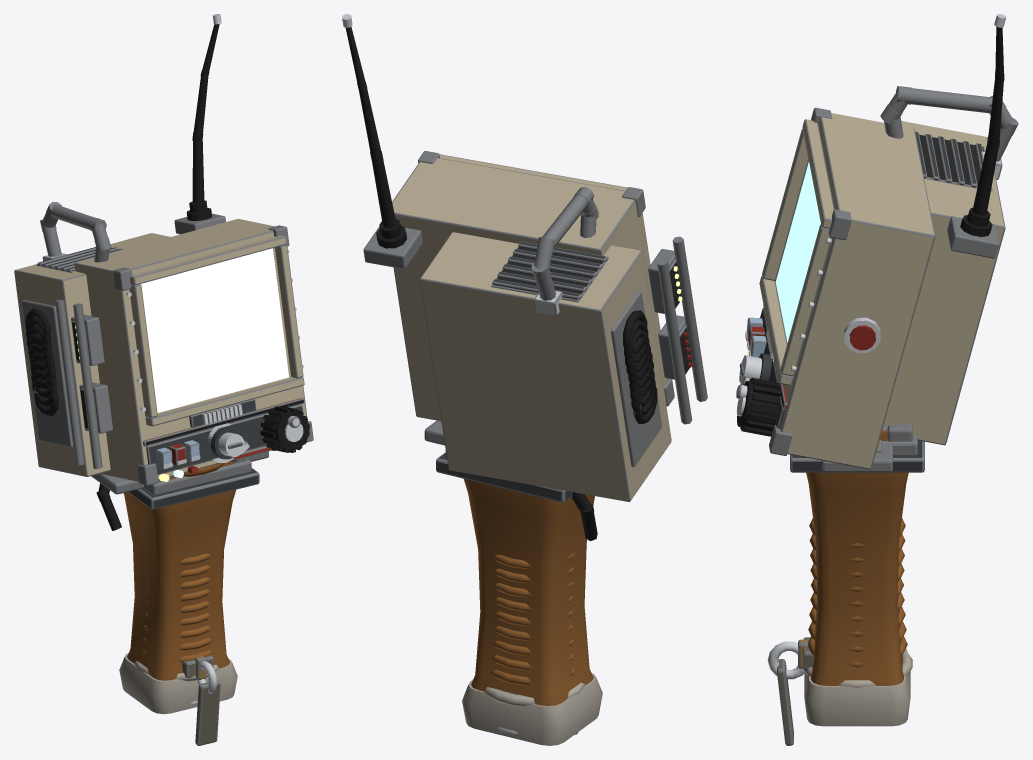
The model's file is item_scanner.fbx.
3 renders of one model, left to right at view 1: azimuth 30°, elevation 25°; view 2: azimuth 150°, elevation 25°; view 3: azimuth 270°, elevation 25°, orthographic. The views are drawn at different scales.
Parts seen in each view (by area): view 1: Mesh_Terminal_Scanner_Case, Mesh_ArmCuff_Grip, Mesh_Terminal_Scanner_Screen, Mesh_ItemScanner_Bracket, Mesh_Terminal_Scanner_Antenna, Mesh_Terminal_Scanner_Dial; view 2: Mesh_Terminal_Scanner_Case, Mesh_ArmCuff_Grip, Mesh_Terminal_Scanner_Antenna, Mesh_ItemScanner_Bracket; view 3: Mesh_Terminal_Scanner_Case, Mesh_ArmCuff_Grip, Mesh_Terminal_Scanner_Screen, Mesh_ItemScanner_Bracket, Mesh_Terminal_Scanner_Antenna, Mesh_Terminal_Scanner_Dial.
Boxes of the visible parts, x1,y1,x2,y2 form: Mesh_Terminal_Scanner_Case: (14,201,313,485); Mesh_ArmCuff_Grip: (119,460,237,745); Mesh_Terminal_Scanner_Screen: (140,248,288,412); Mesh_ItemScanner_Bracket: (91,451,268,530); Mesh_Terminal_Scanner_Antenna: (189,14,221,212); Mesh_Terminal_Scanner_Dial: (260,406,309,452); Mesh_Terminal_Scanner_Case: (363,151,707,501); Mesh_ArmCuff_Grip: (462,479,602,745); Mesh_Terminal_Scanner_Antenna: (342,14,401,238); Mesh_ItemScanner_Bracket: (424,420,597,540); Mesh_Terminal_Scanner_Case: (739,86,1018,469); Mesh_ArmCuff_Grip: (767,426,912,745); Mesh_Terminal_Scanner_Screen: (775,162,820,342); Mesh_ItemScanner_Bracket: (790,424,924,472); Mesh_Terminal_Scanner_Antenna: (967,14,1006,226); Mesh_Terminal_Scanner_Dial: (736,377,780,436).
Size of the model in its own units: 17.56 by 48.64 by 15.9.
